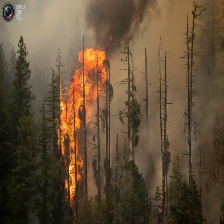fire: (49, 49, 111, 205)
smoke: (142, 16, 224, 180), (82, 1, 155, 47)
